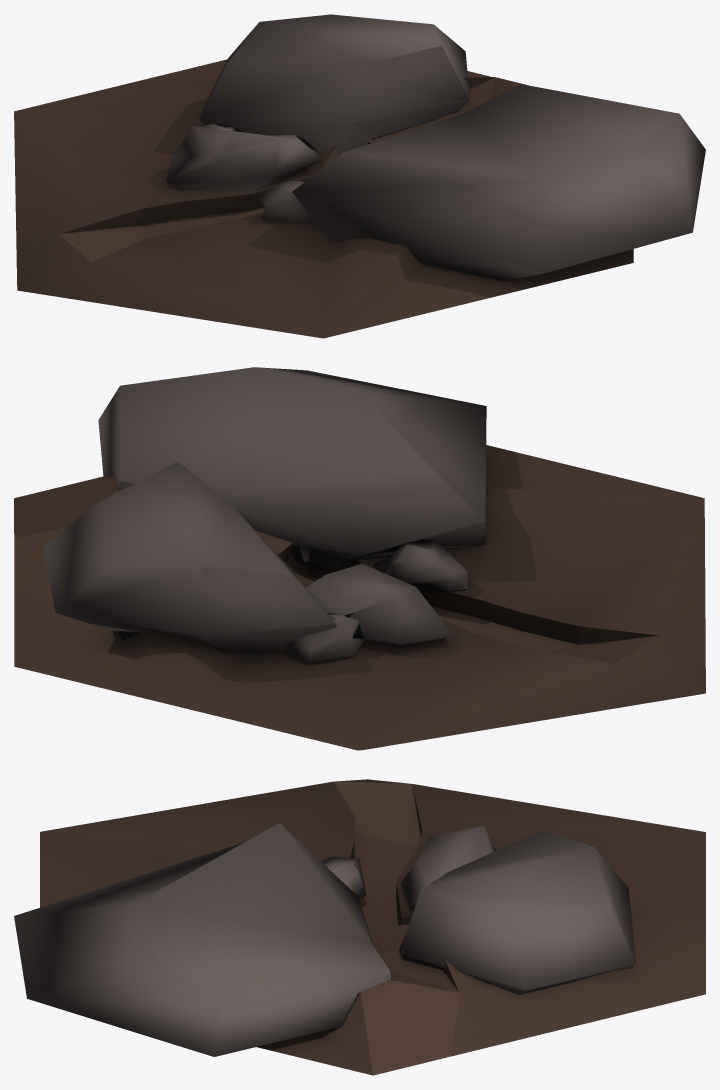
File: jungle_rock_tile.fbx
3 renders of one model, top to bottom at view 1: azimuth 30°, elevation 25°; view 2: azimuth 150°, elevation 25°; view 3: azimuth 270°, elevation 25°, orthographic. The views are drawn at different scales.
Visible parts, largest first — view 1: Cube; view 2: Cube; view 3: Cube.
Boxes of the visible parts, box(x1,y1,x2,y2) form: Cube: box(14, 14, 705, 338); Cube: box(14, 367, 705, 750); Cube: box(14, 779, 705, 1075).
Size of the model in its own units: 3992 by 720 by 3600.
